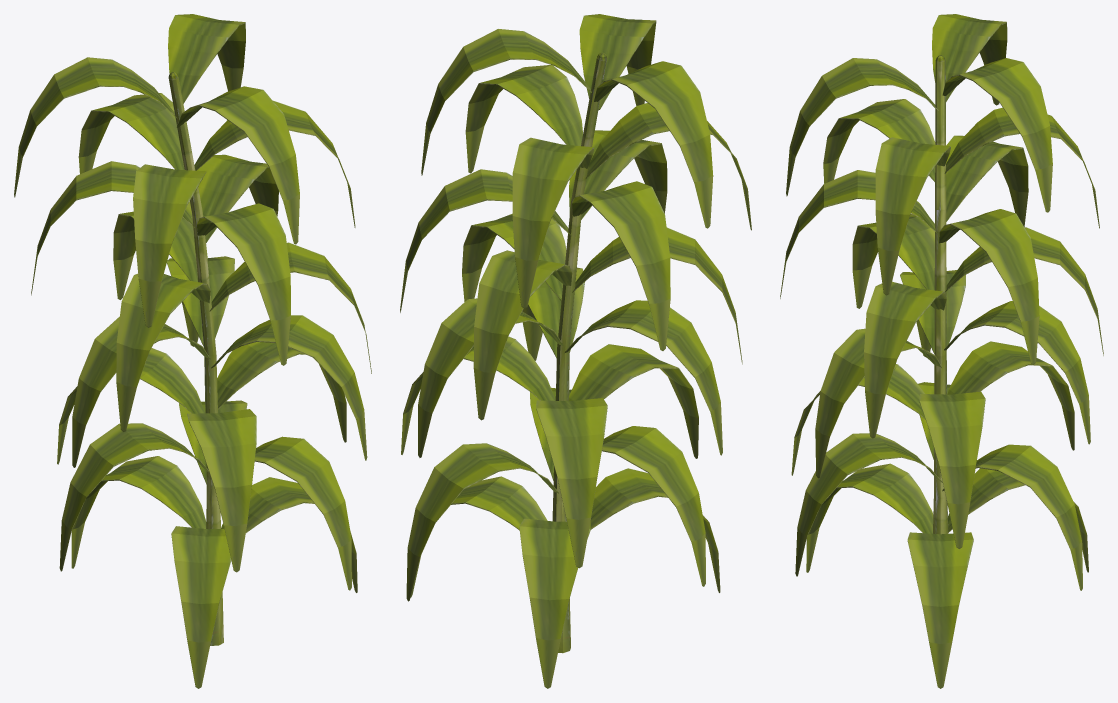
File: cornstalk.fbx
3 renders of one model, left to right at view 1: azimuth 30°, elevation 25°; view 2: azimuth 150°, elevation 25°; view 3: azimuth 270°, elevation 25°, orthographic. The views are drawn at different scales.
Parts seen in each view (by area): view 1: Leaves, Stalk; view 2: Leaves, Stalk; view 3: Leaves, Stalk.
Boxes of the visible parts, bbox=[...] form: Leaves: bbox=[14, 14, 371, 688]; Stalk: bbox=[168, 72, 223, 645]; Leaves: bbox=[400, 14, 751, 688]; Stalk: bbox=[552, 52, 607, 653]; Leaves: bbox=[780, 14, 1103, 688]; Stalk: bbox=[933, 55, 948, 534].
Bounding box in the file's own units: 342 × 620 × 316.
Materials: 1 (1 with a texture image).
